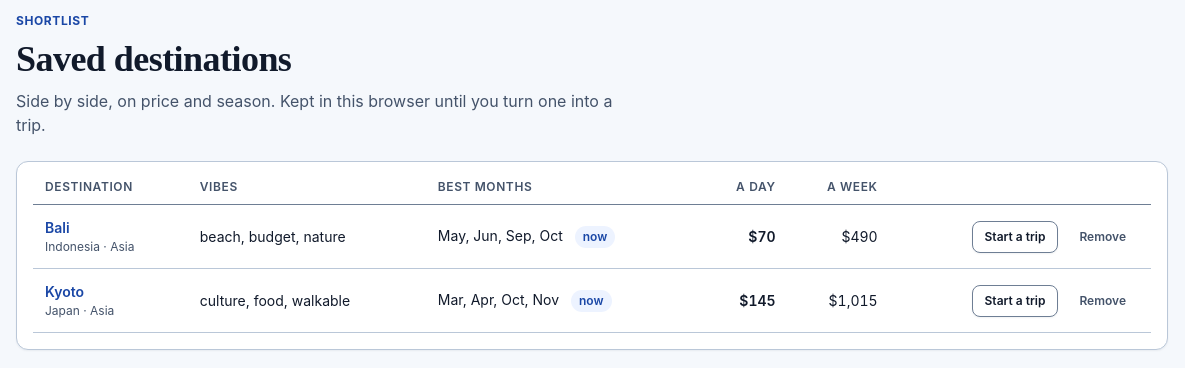
Test: WishlistView › compares saved destinations in a table and removes them again
This screenshot has width=1185, height=368.
Expected: the number of rows with class "saved-row" is 2, [33,205,1151,269]; [33,269,1151,333]
Expected: the row with class "saved-row" shows "$70", [748,228,776,245]
Click the button with class "wish" in the row of "Bali" at (1103, 237), box [1066,221,1139,253]
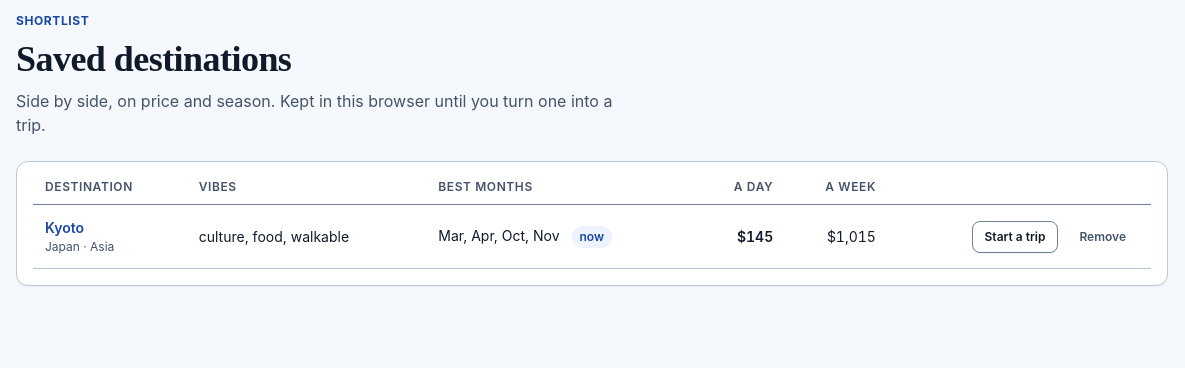
Result: the number of rows with class "saved-row" is 1 at [33,205,1151,269]
